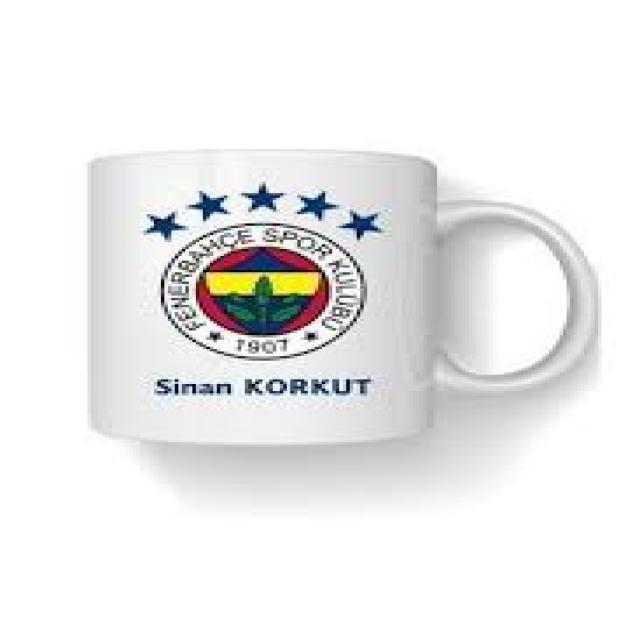taza: (84, 147, 598, 446)
